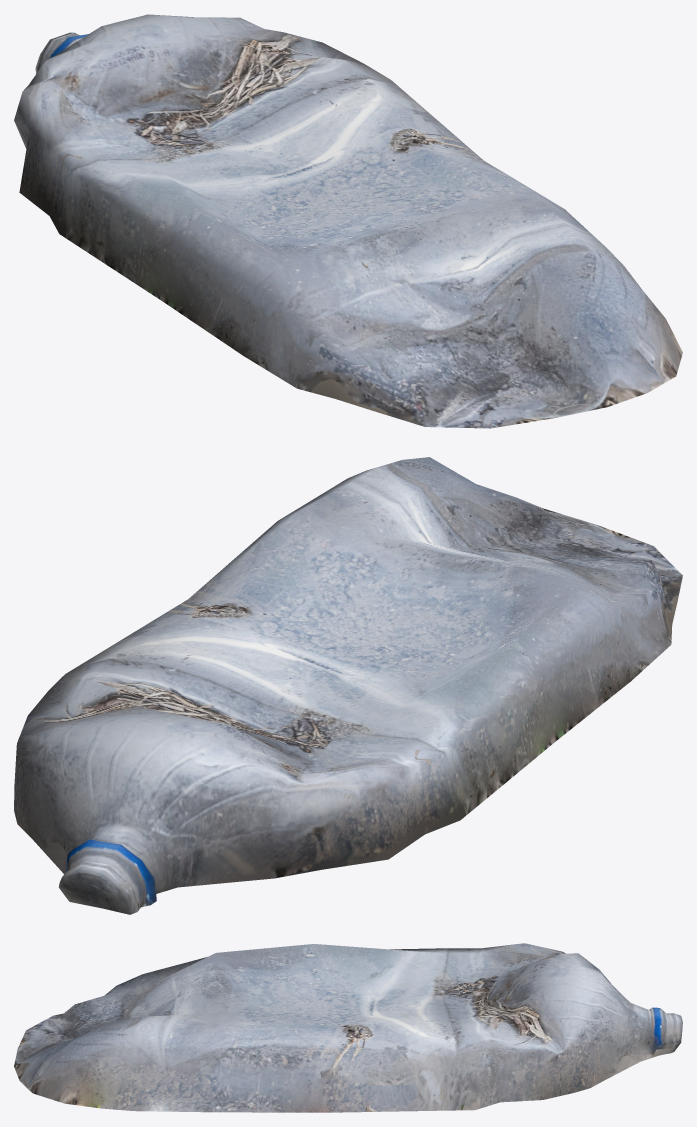
Rendered from sm_PlasticBottle_01_01.fbx.
3 views of the same model, one above another, from view 1: azimuth 30°, elevation 25°; view 2: azimuth 150°, elevation 25°; view 3: azimuth 270°, elevation 25° (orthographic). The views are drawn at different scales.
Visible parts, largest first — view 1: sm_PlasticBottle_01_01_LOD0; view 2: sm_PlasticBottle_01_01_LOD0; view 3: sm_PlasticBottle_01_01_LOD0.
Boxes of the visible parts, x1,y1,x2,y2 form: sm_PlasticBottle_01_01_LOD0: (14,14,682,428); sm_PlasticBottle_01_01_LOD0: (14,457,682,914); sm_PlasticBottle_01_01_LOD0: (14,943,682,1112).
Bounding box in the file's own units: 18.78 × 41.64 × 5.14.
